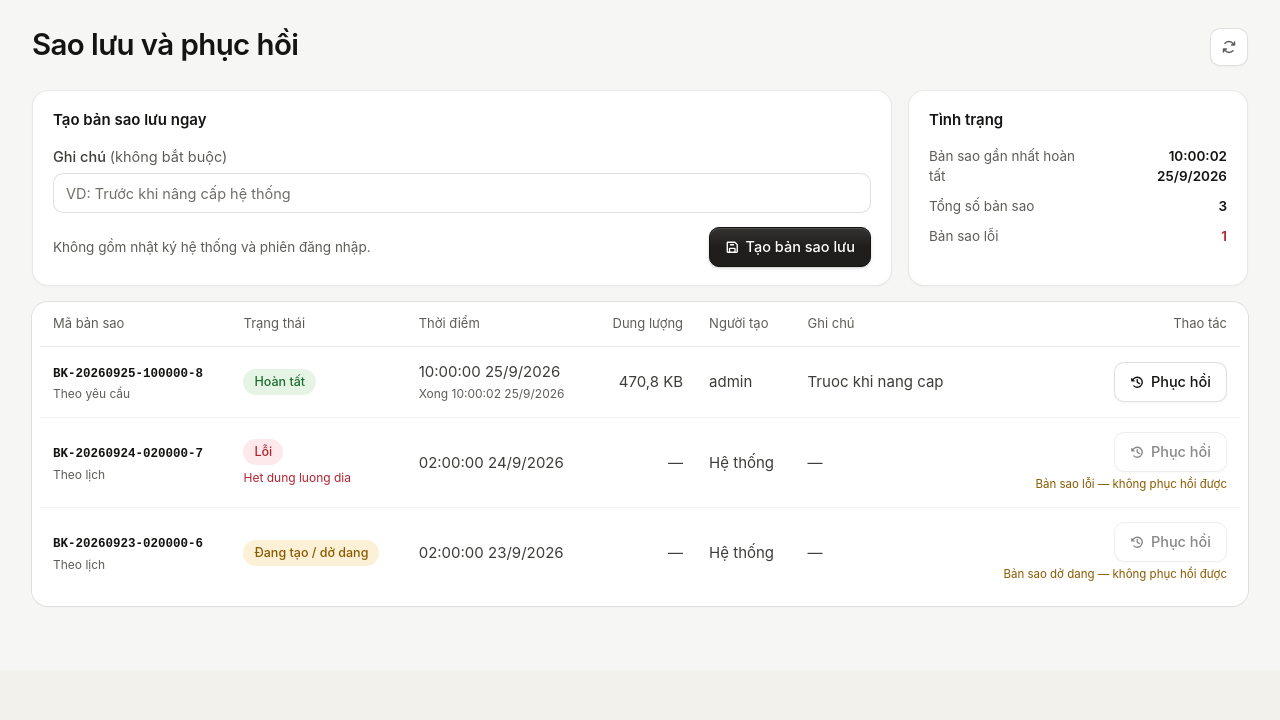
BackupRestorePage (NCL-15-CN-003) › TC-01: máy chủ trả 200 nhưng status FAILED → báo thất bại, không báo thành công
Expected: the row with test id "backup-row-8" is shown, 40,346 -> 1240,418
Click the button with test id "backup-create" showing "Tạo bản sao lưu": (790, 247) 709,227 -> 871,267
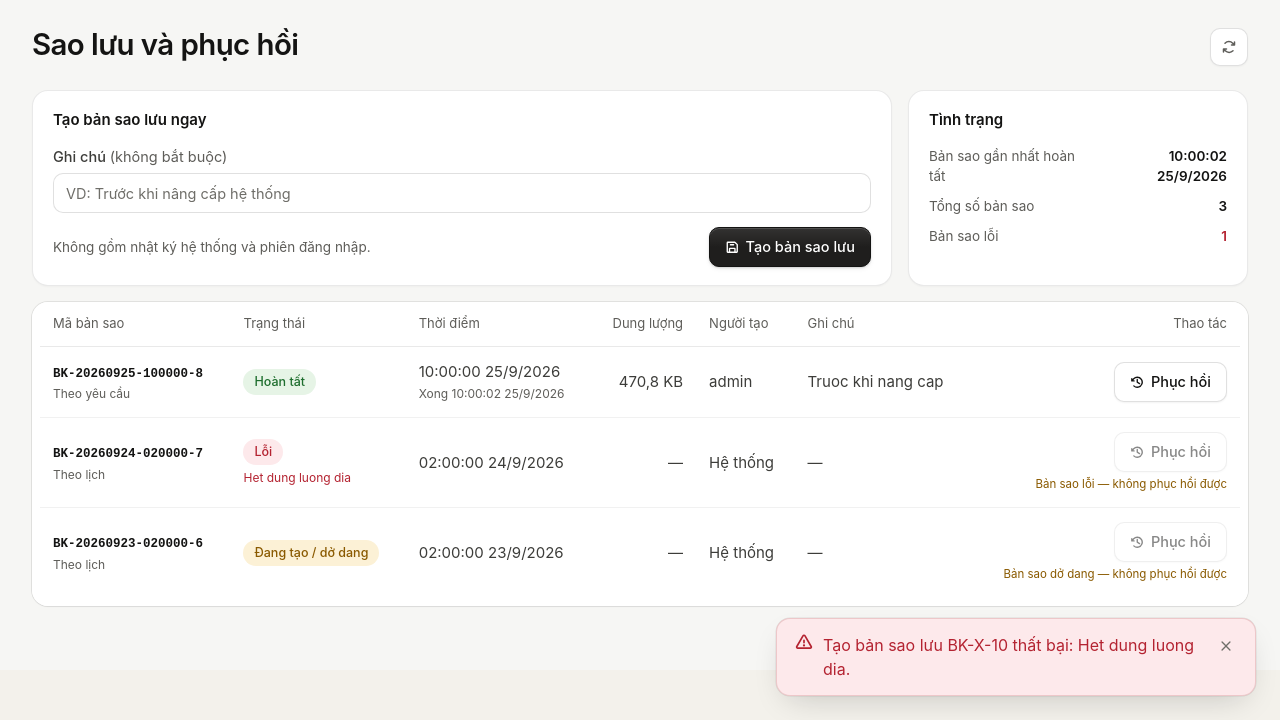
Expected: the text "Tạo bản sao lưu BK-X-10 thất bại: Het dung luong dia." is shown, 823,633 -> 1203,681
